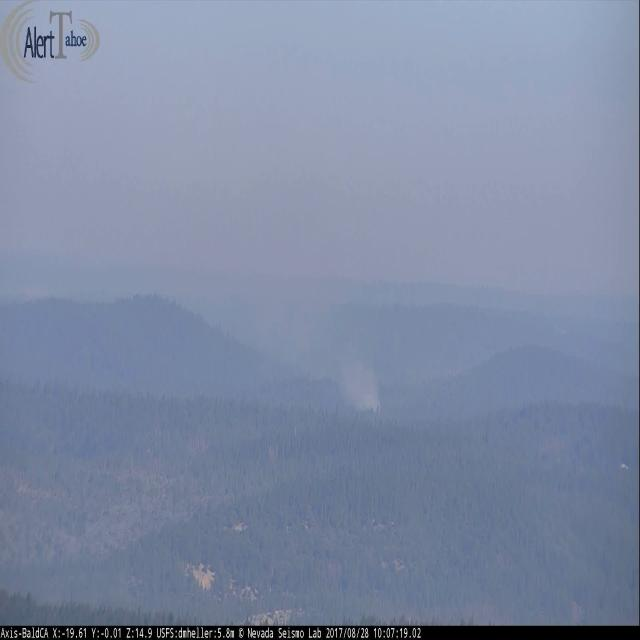smoke: (346, 355, 383, 421)
